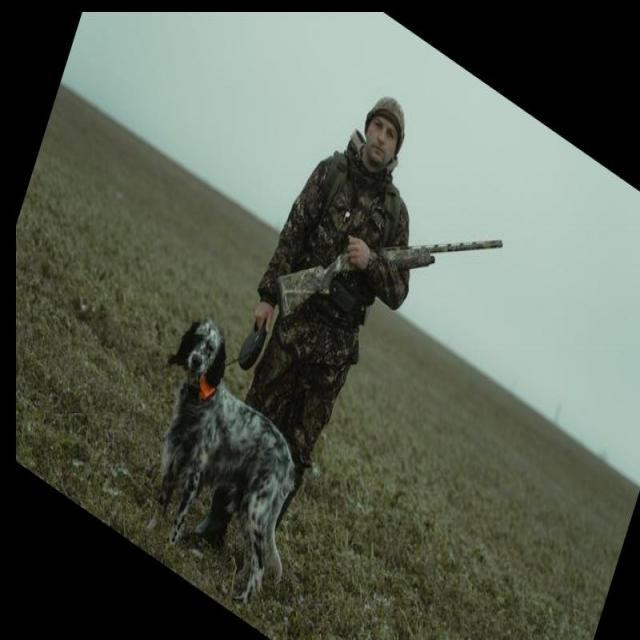weapon: (276, 238, 504, 320)
